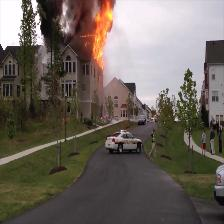fire: (93, 9, 111, 65)
smoke: (38, 1, 92, 44)
